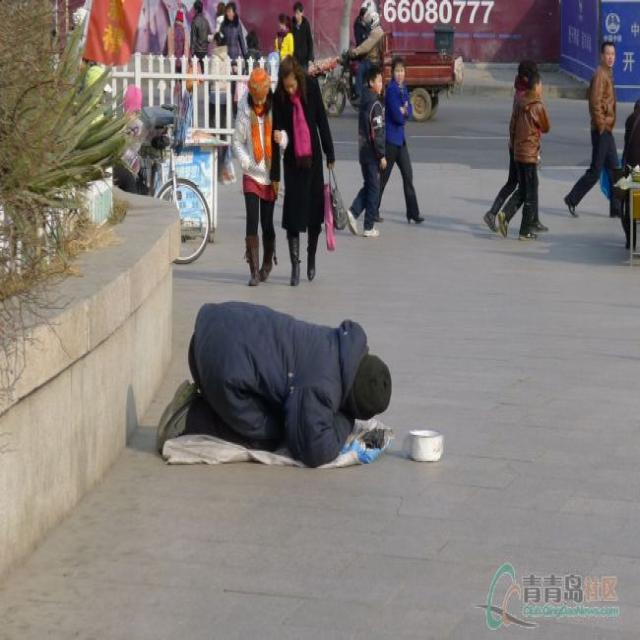10-: (79, 0, 639, 480)
down: (139, 284, 397, 470)
